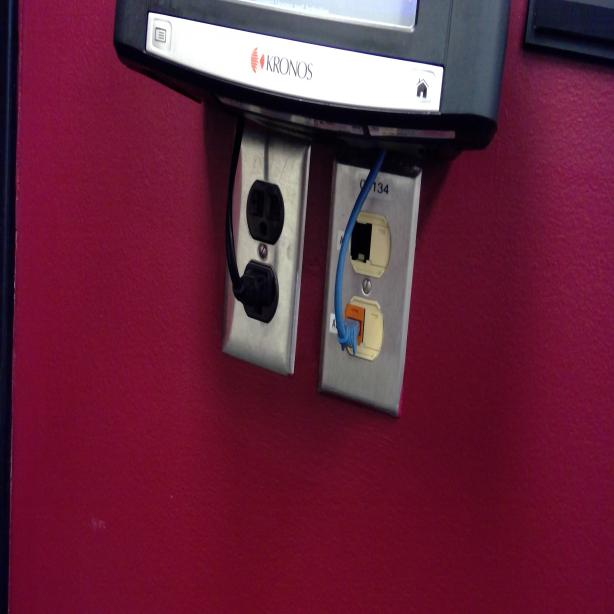typeb: (248, 185, 282, 239)
